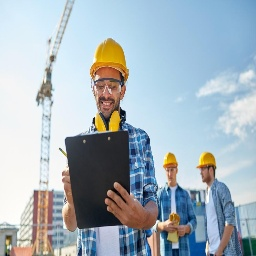helmet: (89, 38, 128, 74), (197, 148, 217, 169), (164, 151, 178, 169)
no-vest: (204, 180, 234, 254), (164, 184, 192, 254)
person: (65, 38, 163, 256), (198, 149, 238, 256), (162, 152, 194, 256)
